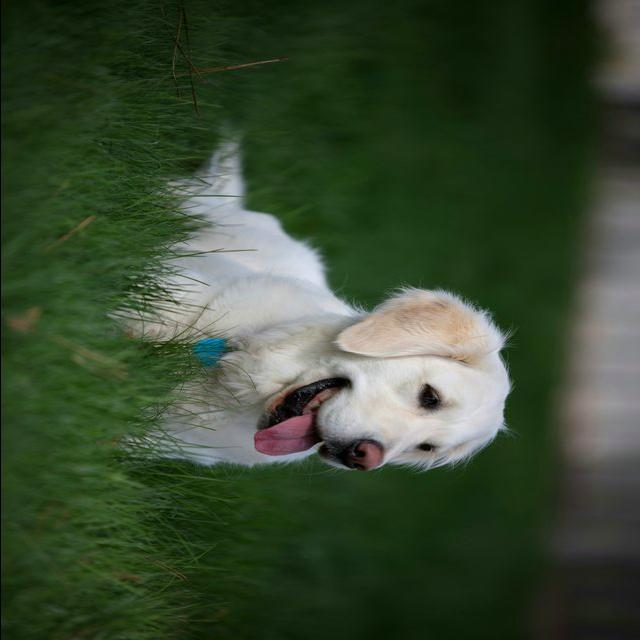retriever: (105, 121, 516, 475)
